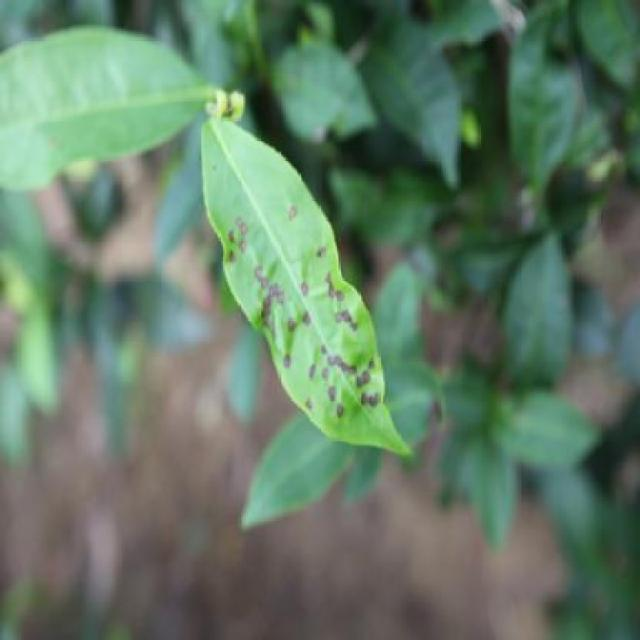Tea Mosquito bug infested leaf: (200, 104, 414, 464)
